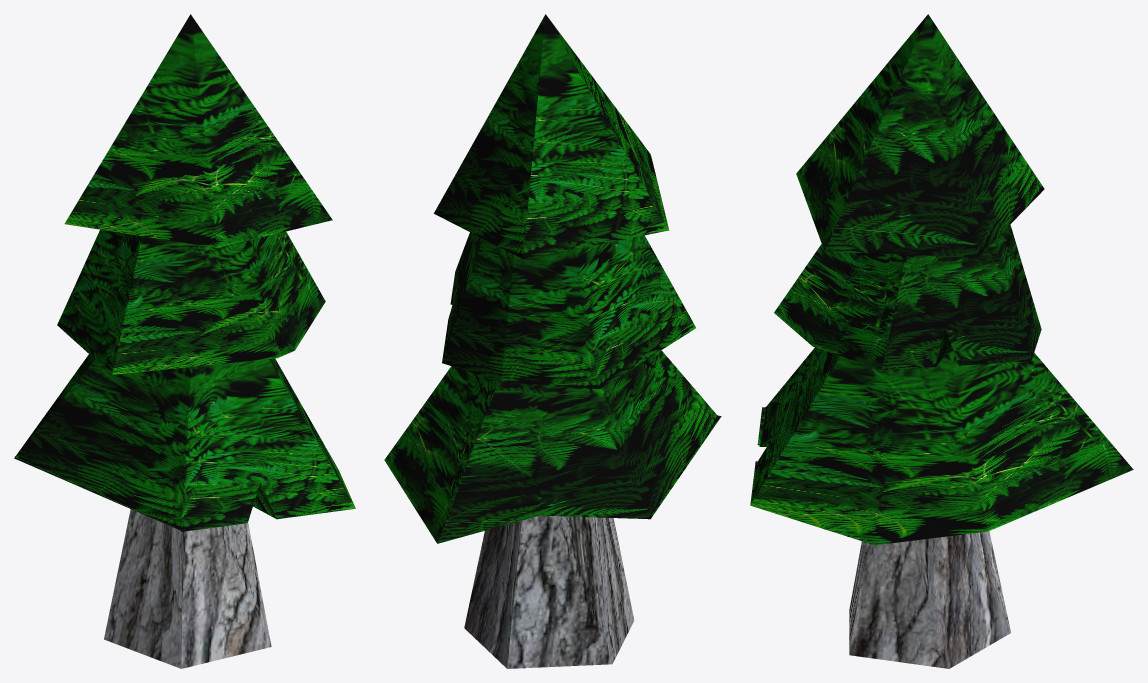
File: tree.glb
3 views of the same model, side by side, from view 1: azimuth 30°, elevation 25°; view 2: azimuth 150°, elevation 25°; view 3: azimuth 270°, elevation 25° (orthographic).
Parts seen in each view (by area): view 1: Cylinder.001, Cylinder.003, Cylinder.002, Cylinder; view 2: Cylinder.001, Cylinder.003, Cylinder.002, Cylinder; view 3: Cylinder.001, Cylinder.003, Cylinder.002, Cylinder.
Boxes of the visible parts, box(x1,y1,x2,y2) form: Cylinder.001: box(14, 354, 355, 531); Cylinder.003: box(64, 14, 332, 247); Cylinder.002: box(57, 229, 325, 374); Cylinder: box(104, 509, 271, 668); Cylinder.001: box(384, 350, 721, 543); Cylinder.003: box(434, 14, 669, 259); Cylinder.002: box(442, 232, 695, 388); Cylinder: box(464, 515, 634, 668); Cylinder.001: box(750, 347, 1133, 545); Cylinder.003: box(796, 14, 1044, 257); Cylinder.002: box(774, 224, 1041, 369); Cylinder: box(849, 531, 1010, 668).
Size of the model in its own units: 2.07 by 4.49 by 2.51.
Materials: 4 (4 with a texture image).
